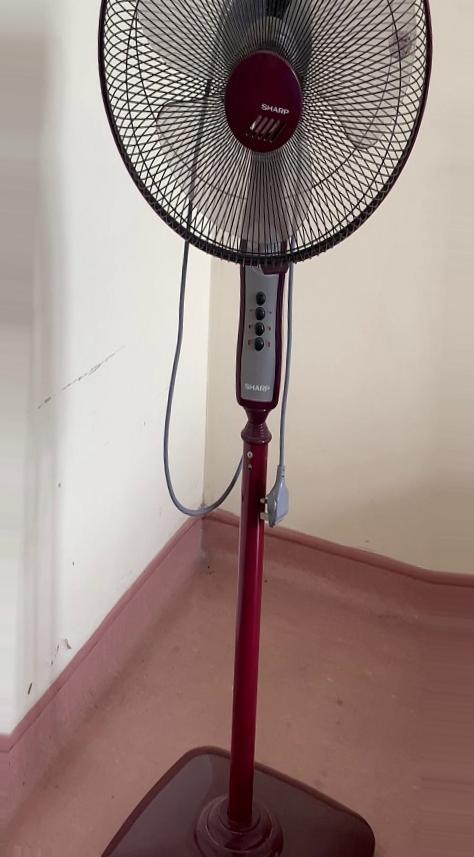fan: (90, 2, 470, 855)
